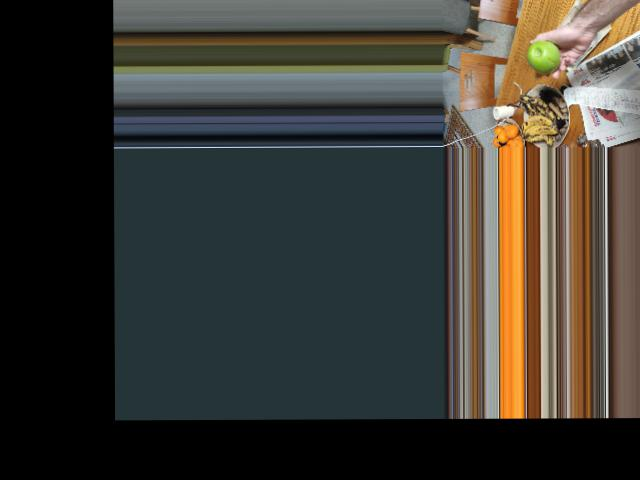apple: (525, 40, 562, 75)
